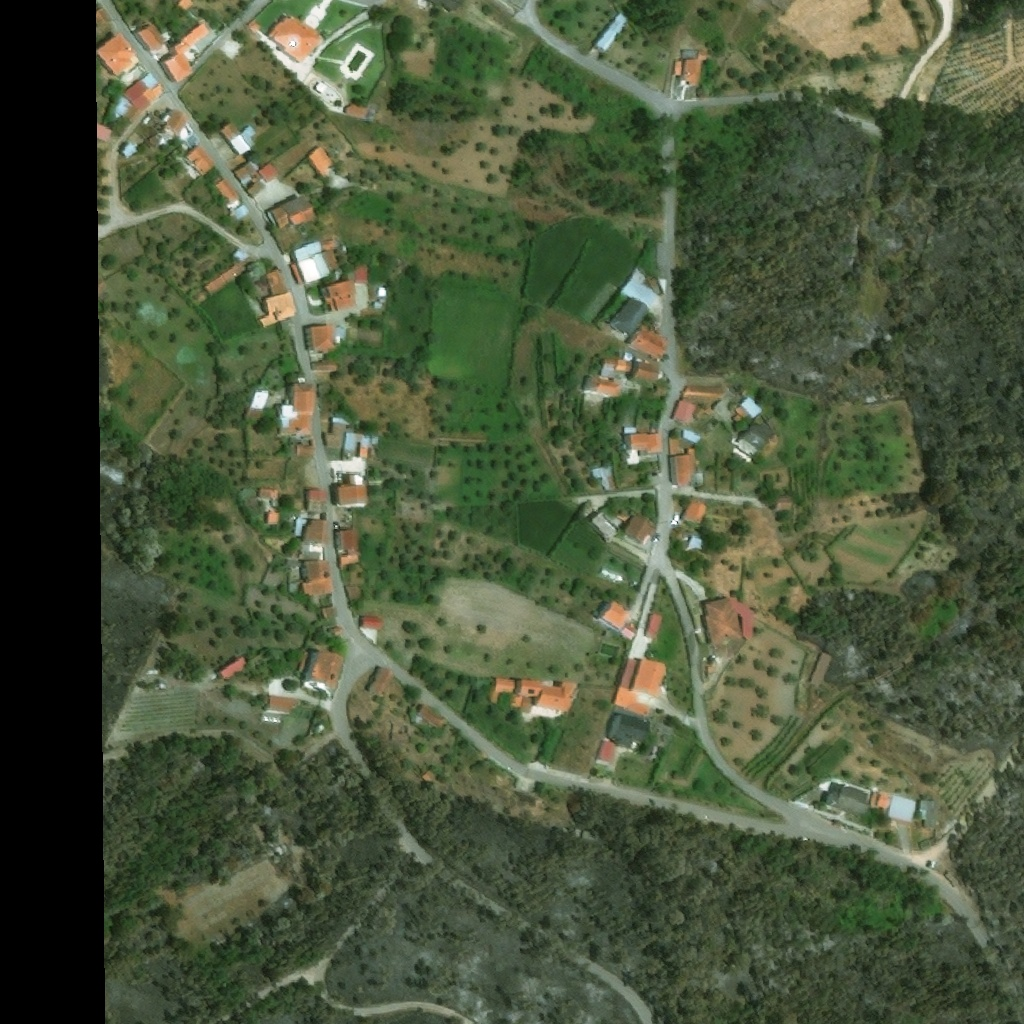0 no-damage: (510, 678, 581, 724), (162, 22, 212, 83), (705, 597, 753, 658), (267, 15, 324, 65), (817, 779, 872, 822), (290, 241, 341, 286), (301, 643, 347, 691), (606, 708, 653, 754), (267, 190, 317, 231), (672, 48, 723, 87), (279, 382, 316, 434), (629, 656, 670, 700), (682, 385, 725, 424), (104, 32, 141, 77), (609, 296, 651, 335), (624, 427, 664, 467), (259, 288, 298, 329), (624, 327, 670, 361), (205, 261, 248, 297), (220, 120, 262, 155), (594, 13, 628, 55), (333, 471, 370, 508), (736, 422, 774, 458), (321, 279, 360, 313), (624, 510, 661, 545), (613, 686, 652, 719), (301, 560, 334, 596), (135, 20, 168, 54), (212, 177, 244, 212), (600, 598, 635, 630), (115, 104, 147, 138), (307, 144, 337, 180), (308, 325, 342, 356), (324, 416, 356, 448), (884, 792, 916, 822), (187, 144, 216, 176), (590, 510, 618, 543), (217, 654, 251, 681), (341, 430, 370, 460), (672, 451, 696, 487), (414, 704, 447, 730), (160, 111, 189, 140), (125, 80, 152, 111), (732, 396, 763, 423), (233, 157, 261, 186), (108, 94, 139, 120), (359, 616, 386, 645), (369, 664, 392, 696), (916, 798, 939, 830), (682, 497, 709, 524), (302, 519, 330, 545), (631, 361, 662, 383), (337, 527, 363, 553), (490, 678, 515, 705), (268, 694, 302, 712), (671, 399, 695, 424), (619, 657, 637, 690), (259, 488, 279, 516), (144, 83, 168, 106), (266, 269, 287, 295), (645, 611, 664, 639), (306, 490, 328, 514), (595, 740, 616, 765), (259, 161, 280, 184), (597, 378, 622, 396), (683, 534, 705, 554), (248, 178, 268, 198), (871, 791, 891, 811), (251, 390, 270, 409), (601, 355, 617, 377), (341, 552, 364, 567), (311, 360, 339, 372), (233, 202, 251, 220), (345, 584, 364, 601), (296, 443, 317, 458), (141, 70, 158, 88), (621, 624, 639, 641), (121, 142, 138, 159), (346, 104, 365, 118), (584, 376, 600, 392), (333, 325, 347, 343), (692, 471, 706, 488), (355, 267, 370, 282), (616, 358, 633, 371), (139, 79, 150, 98), (246, 21, 259, 34), (332, 626, 346, 638), (680, 48, 696, 58), (326, 607, 339, 617), (377, 287, 387, 298), (144, 103, 154, 113), (151, 80, 161, 90)
4 un-classified: (700, 421, 737, 459), (428, 0, 465, 14), (954, 0, 969, 18), (178, 0, 194, 12)
